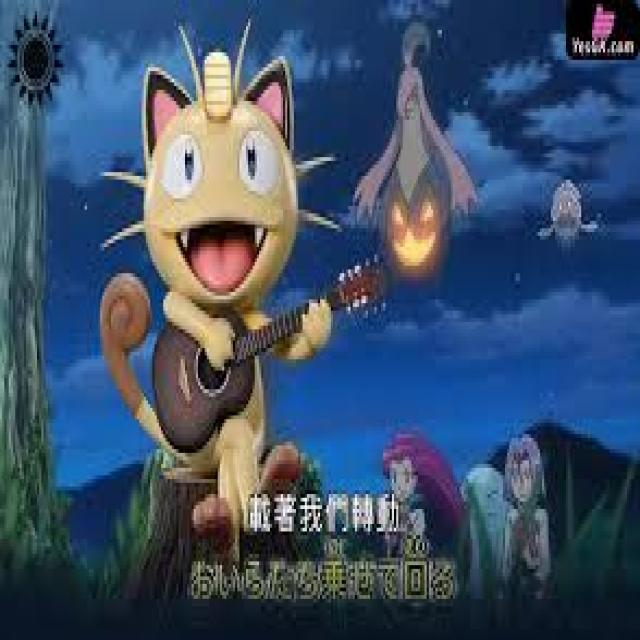Meowth: (144, 53, 300, 525)
